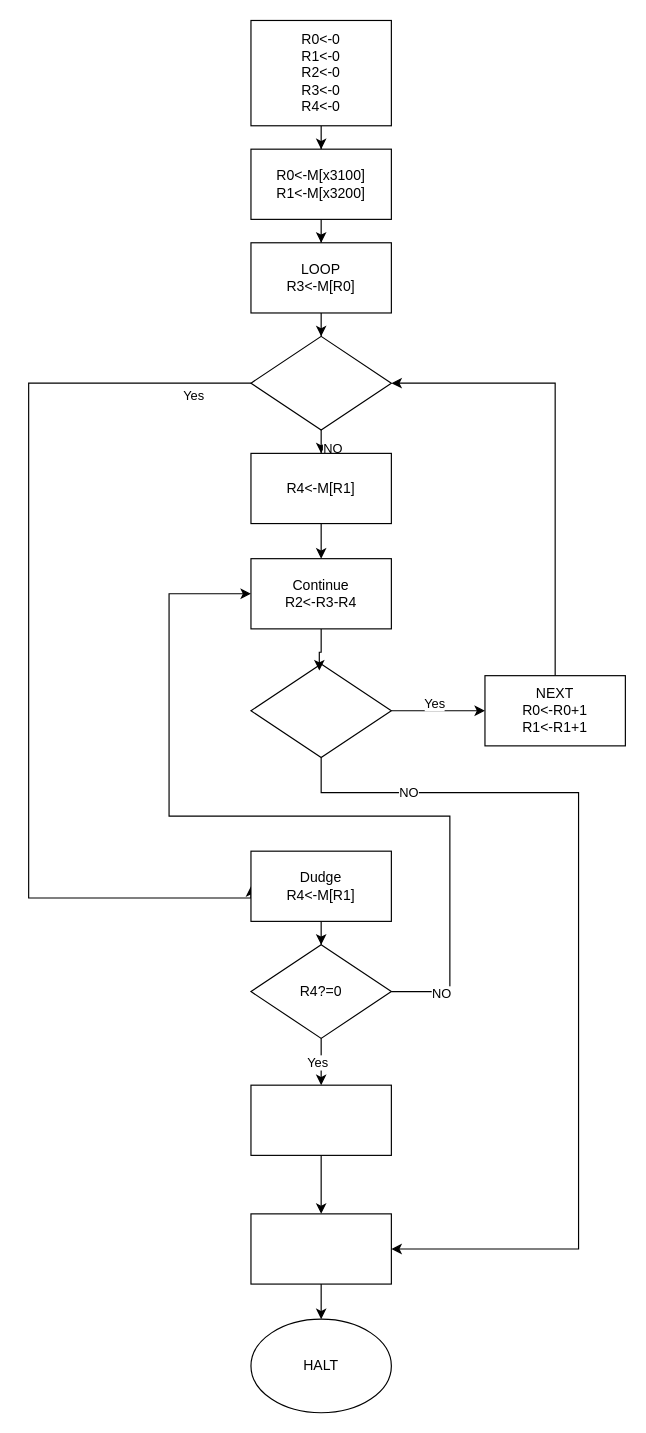
The diagram is 646 pixels wide and 1433 high, and some of its shapes have lost their labels. Each missing label, with the centre of its shape:
"DONE M[x3300]<-R2" belongs at point 320,1248.
"R2<-0" belongs at point 320,1119.
"R2?=0" belongs at point 320,710.
"R3?=0" belongs at point 320,382.
